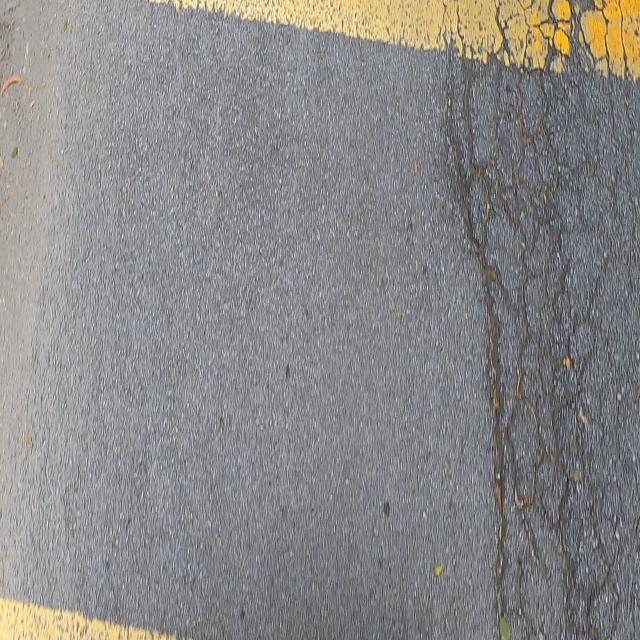Retak-Buaya: (439, 0, 640, 638)
